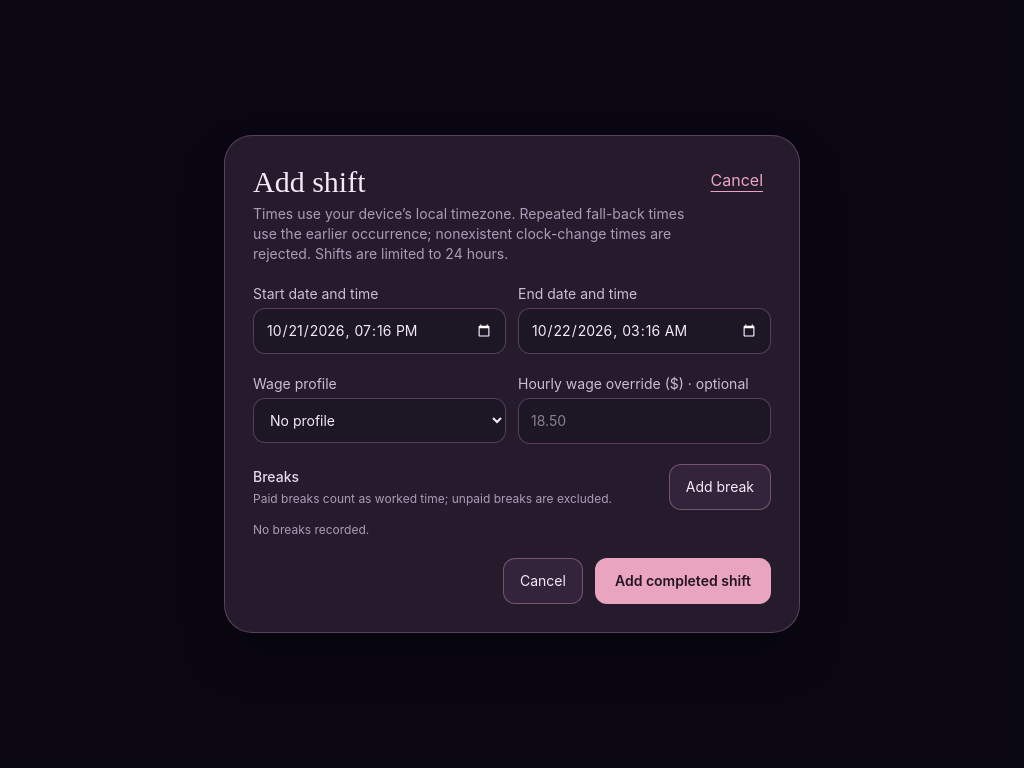
Test case: manual shift editor › shows a safe classified server error instead of a generic connection message
The width and height of the screenshot is (1024, 768).
Replace the text in the field labelled "Start date and time" with "2024-06-05T21:00" at (380, 331), box [253, 308, 506, 354]
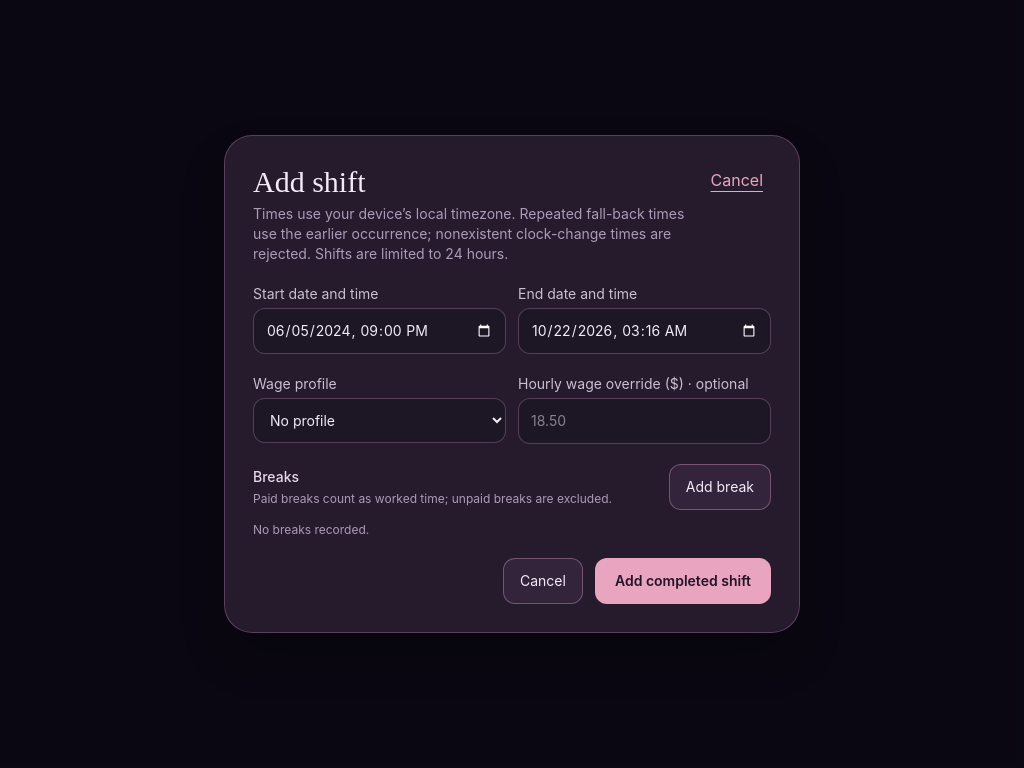
Replace the text in the field labelled "End date and time" with "2024-06-06T05:00" at (644, 331), box [518, 308, 771, 354]
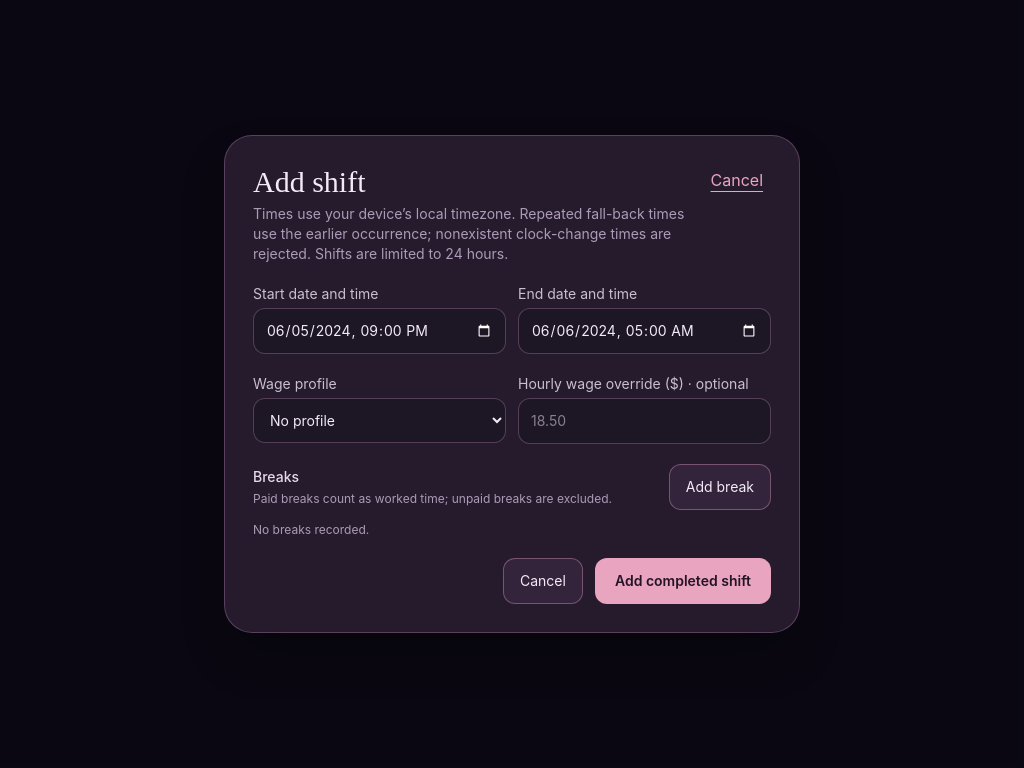
Click the button "Add completed shift" at (683, 581), box [595, 558, 771, 604]
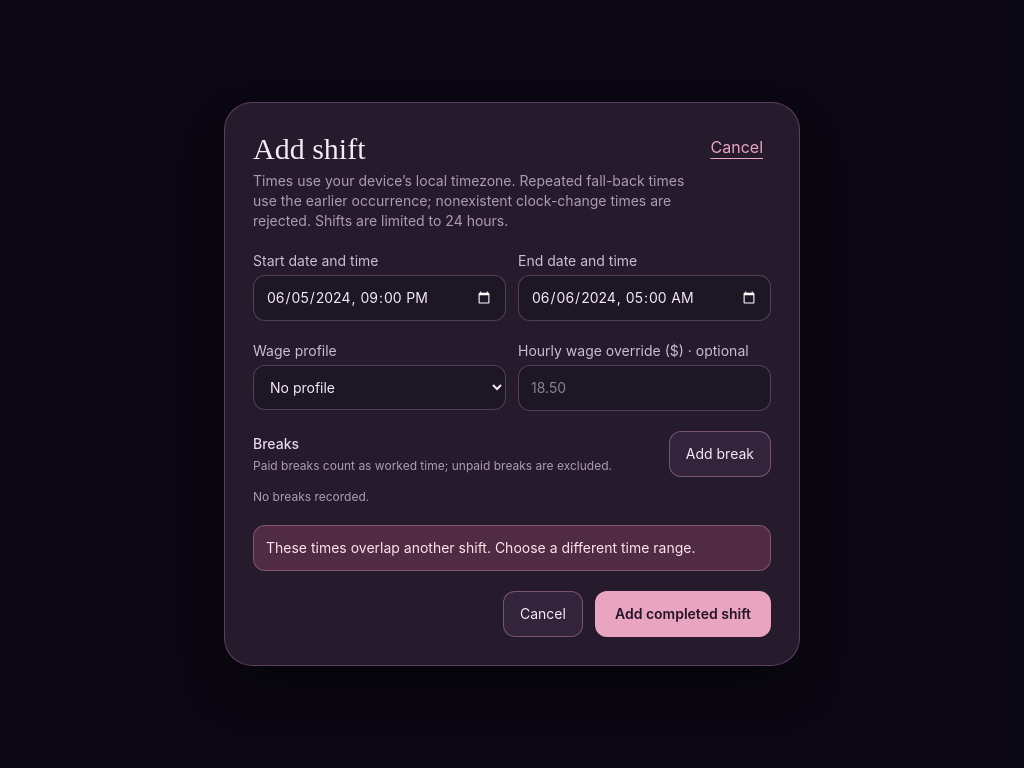
Expected: the message does not show "private database detail", [253, 525, 771, 571]
Expected: the message shows "These times overlap another shift", [266, 539, 696, 556]
